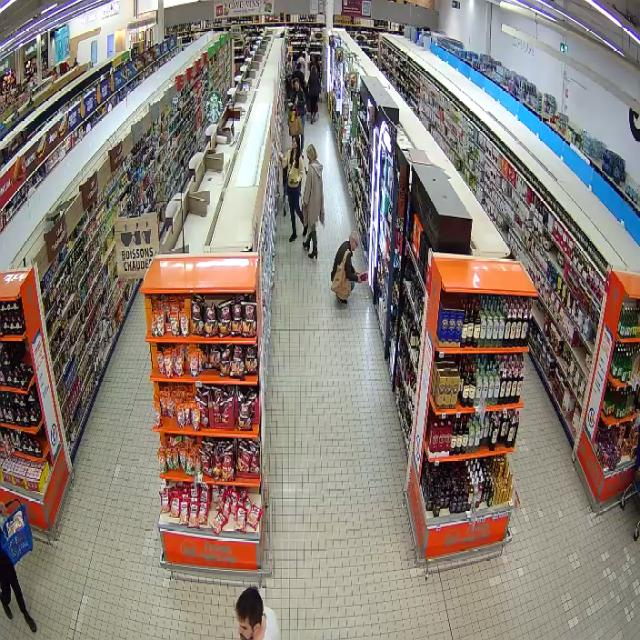article: (361, 272, 370, 281)
hands: (357, 273, 363, 283)
person: (281, 136, 304, 241), (331, 232, 365, 303), (303, 144, 324, 258), (235, 588, 279, 639)
